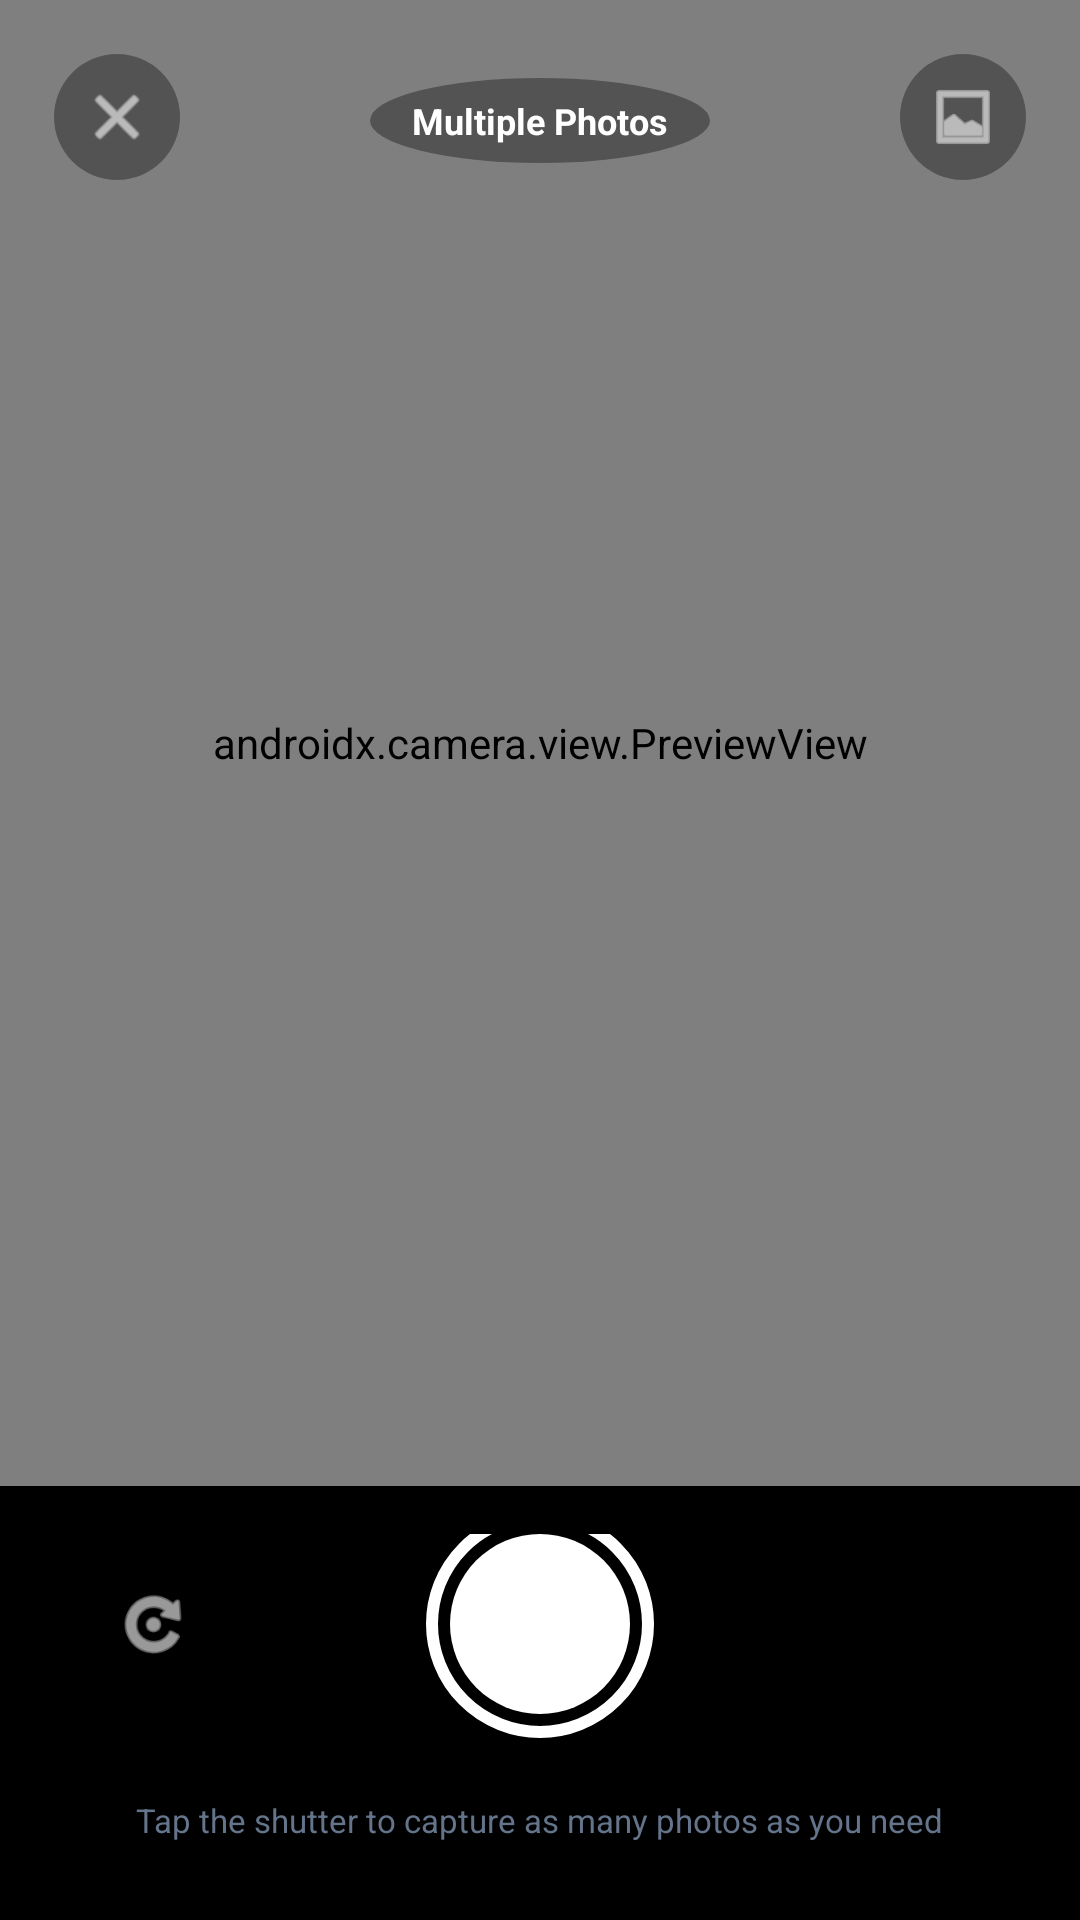

Icon bounding boxes for this 1080px×1920px phone screenshot, format [x1,y1,x2,y2]:
Close camera: [54,54,180,180]
Flip camera: [124,1595,182,1654]
